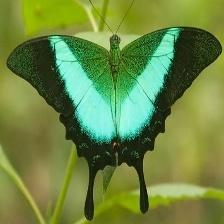butterfly: (8, 27, 223, 220)
